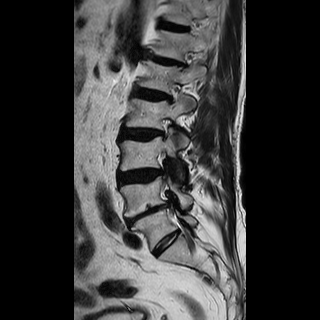LFS1: (148, 112, 179, 145)
